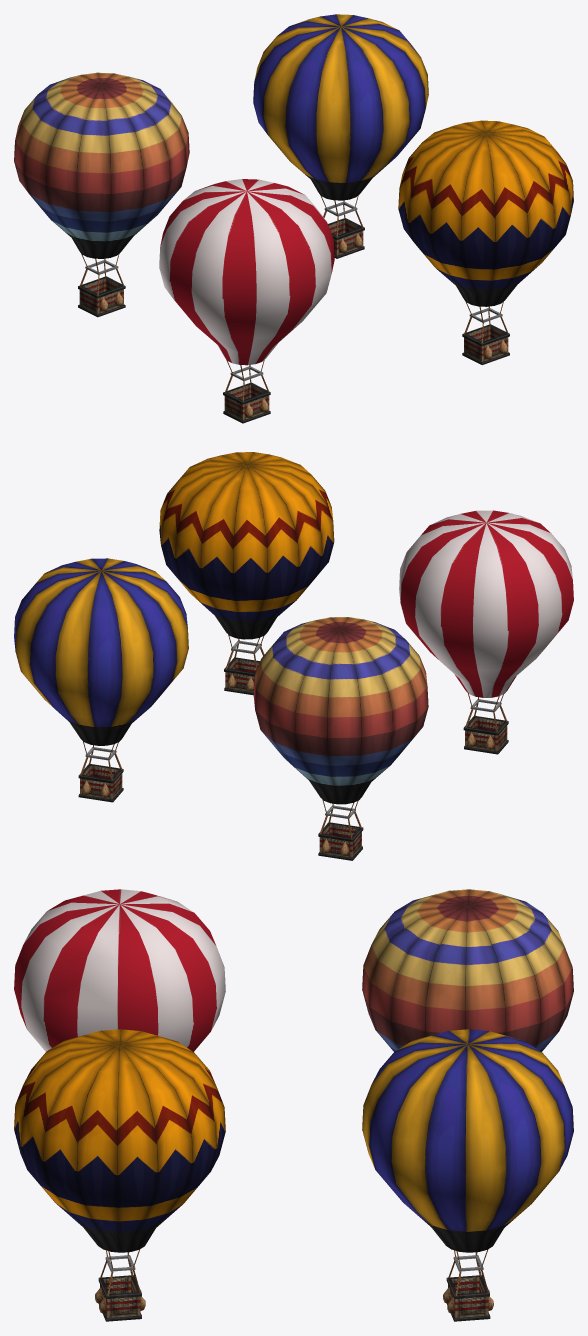
File: Hot Air Ballon.fbx
The picture shows the model from 3 angles, top to bottom: view 1: azimuth 30°, elevation 25°; view 2: azimuth 150°, elevation 25°; view 3: azimuth 270°, elevation 25°; orthographic projection. The views are drawn at different scales.
Visible parts, largest first — view 1: hot_Ballon4, hot_Ballon5, hot_Ballon2, hot_Ballon6; view 2: hot_Ballon2, hot_Ballon4, hot_Ballon6, hot_Ballon5; view 3: hot_Ballon6, hot_Ballon5, hot_Ballon2, hot_Ballon4.
Part boxes in pixels (<box>): hot_Ballon4: <box>159,179,334,423</box>; hot_Ballon5: <box>398,120,573,364</box>; hot_Ballon2: <box>14,72,189,317</box>; hot_Ballon6: <box>253,14,428,258</box>; hot_Ballon2: <box>253,617,428,860</box>; hot_Ballon4: <box>399,510,573,754</box>; hot_Ballon6: <box>14,558,188,802</box>; hot_Ballon5: <box>159,452,334,695</box>; hot_Ballon6: <box>362,1029,573,1321</box>; hot_Ballon5: <box>14,1029,225,1321</box>; hot_Ballon2: <box>362,889,573,1051</box>; hot_Ballon4: <box>14,889,225,1051</box>.
Size of the model in its own units: 1744 by 946 by 1799.
